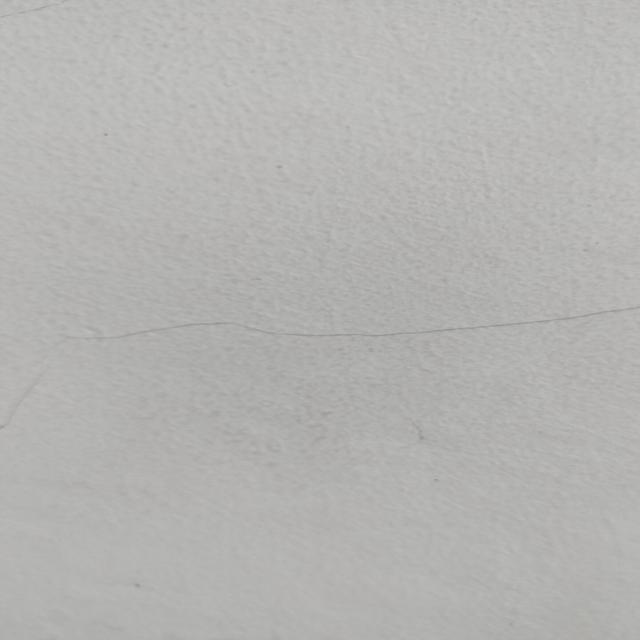Crack: (57, 302, 640, 344)
